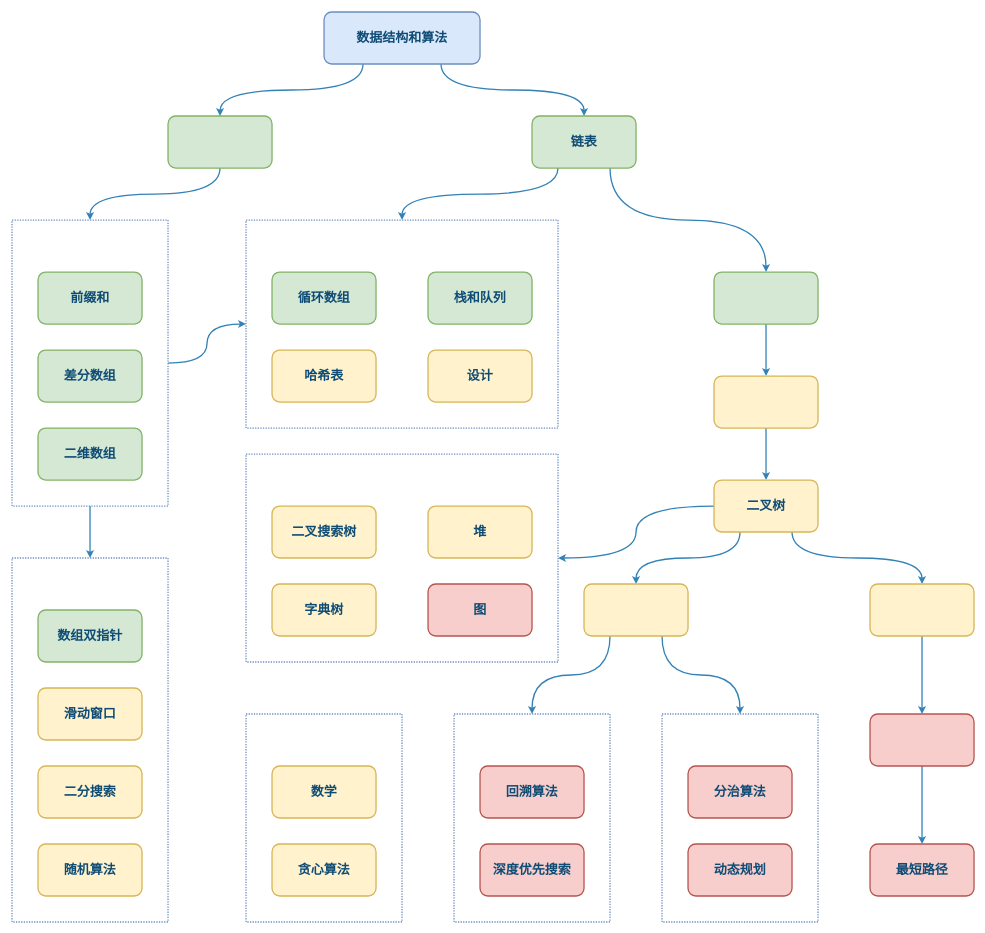
Some shapes in this 985 by 933 pixel diagram are drawn without their labels. Each missing label, with the box of its shape:
其他算法: (245, 713, 402, 922)
双指针技巧: (11, 557, 168, 922)
基础数据结构: (245, 219, 558, 428)
子问题视角: (661, 713, 818, 922)
层序遍历: (869, 583, 974, 636)
广度优先搜索: (869, 713, 974, 766)
数组: (167, 115, 272, 168)
数组操作: (11, 219, 168, 506)
递归: (713, 375, 818, 428)
递归遍历: (583, 583, 688, 636)
遍历视角: (453, 713, 610, 922)
链表双指针: (713, 271, 818, 324)
高级数据结构: (245, 453, 558, 662)
